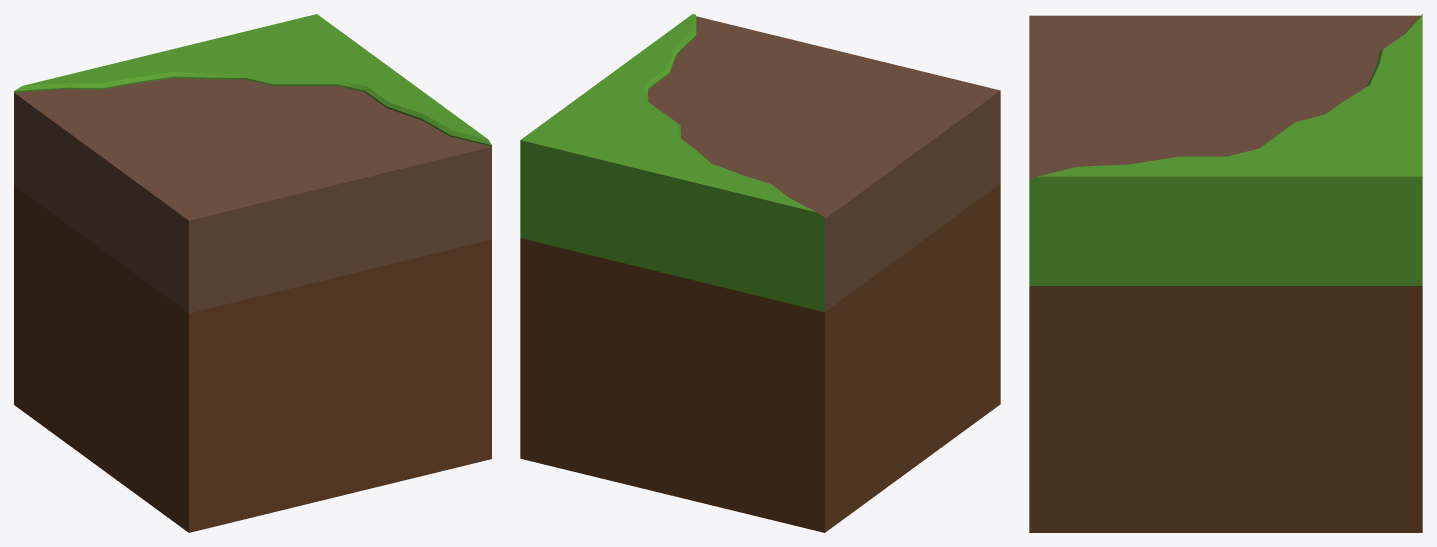
Rendered from Ground-Grass 1.fbx.
The picture shows the model from 3 angles, left to right: view 1: azimuth 30°, elevation 25°; view 2: azimuth 150°, elevation 25°; view 3: azimuth 270°, elevation 25°; orthographic projection. The views are drawn at different scales.
Parts seen in each view (by area): view 1: Grass/Ground 3; view 2: Grass/Ground 3; view 3: Grass/Ground 3.
Part boxes in pixels (x1,y1,x2,y2): Grass/Ground 3: (14,14,491,532); Grass/Ground 3: (520,14,1000,532); Grass/Ground 3: (1029,14,1422,532).
Size of the model in its own units: 2 by 2 by 2.
